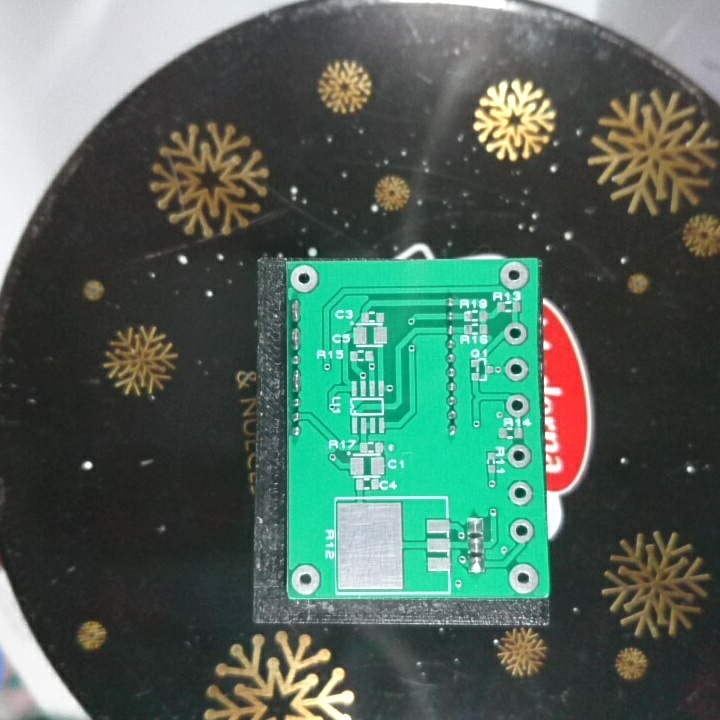F: (505, 561, 540, 596), (289, 563, 324, 596), (288, 263, 319, 295), (497, 261, 531, 290), (503, 440, 534, 470), (507, 517, 537, 546), (502, 354, 531, 383), (502, 320, 531, 348), (504, 480, 534, 506), (504, 392, 532, 419)
P: (288, 297, 304, 325), (288, 324, 304, 352), (289, 367, 303, 393)
